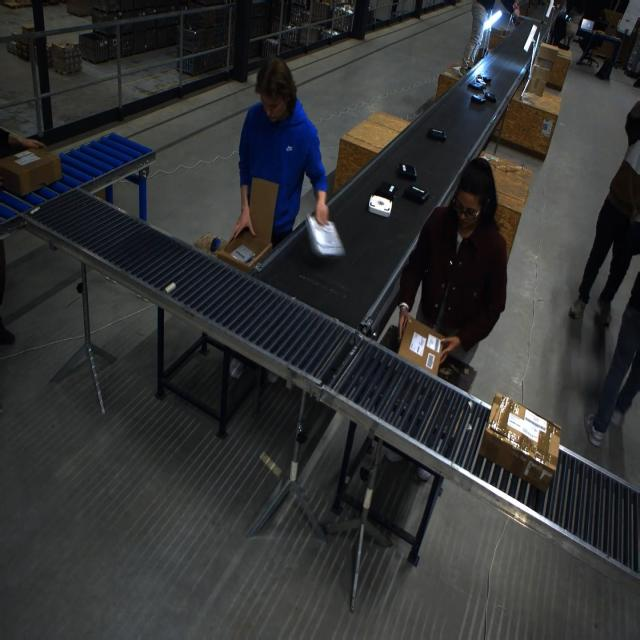box: (478, 388, 564, 486), (216, 177, 277, 274), (396, 315, 447, 377), (0, 146, 61, 197)
product: (307, 202, 345, 269), (359, 198, 398, 225), (403, 185, 430, 205), (374, 181, 397, 200), (397, 162, 418, 181), (427, 128, 447, 142), (469, 95, 488, 107), (467, 80, 485, 90), (477, 75, 491, 84), (484, 92, 496, 102)
